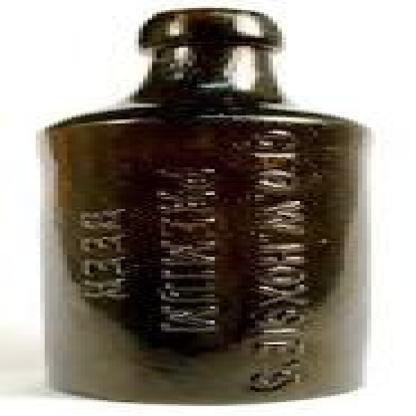trash: (42, 8, 366, 402)
